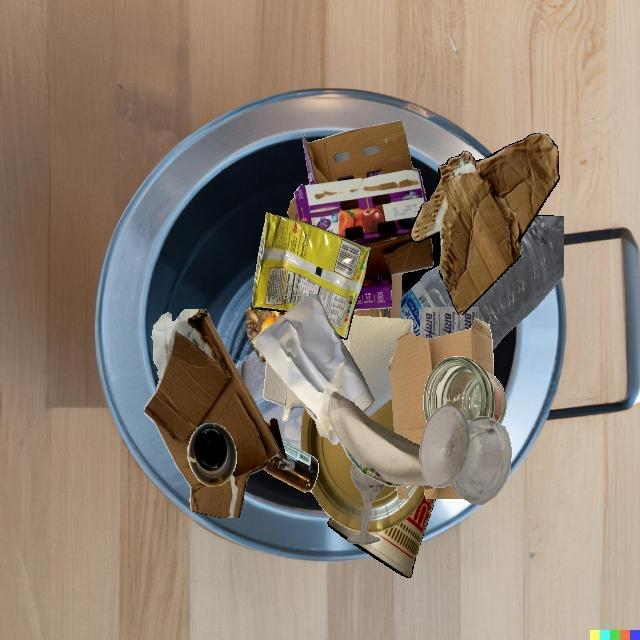biowaste: (246, 306, 287, 363)
cardboard: (144, 309, 295, 518), (287, 121, 433, 310), (410, 133, 559, 315), (389, 318, 494, 443), (340, 315, 412, 417), (263, 360, 305, 423), (353, 273, 402, 319)
glass: (420, 404, 512, 504), (423, 357, 507, 424), (346, 463, 387, 545), (187, 423, 237, 486), (264, 440, 319, 492)
paper: (252, 294, 374, 445), (328, 391, 432, 487), (301, 408, 365, 532), (368, 485, 425, 533)
plastic: (470, 215, 564, 350), (401, 265, 455, 336), (419, 307, 478, 338)
trash: (251, 212, 371, 340), (352, 495, 435, 578)
